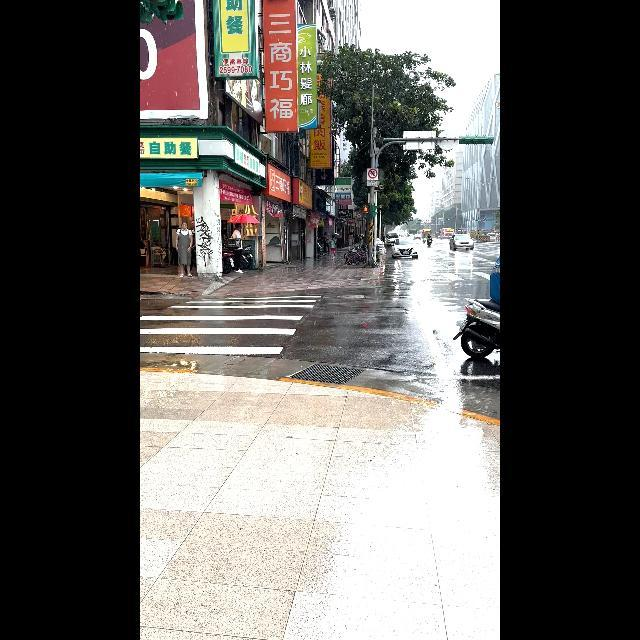sidewalk: (140, 296, 321, 355)
